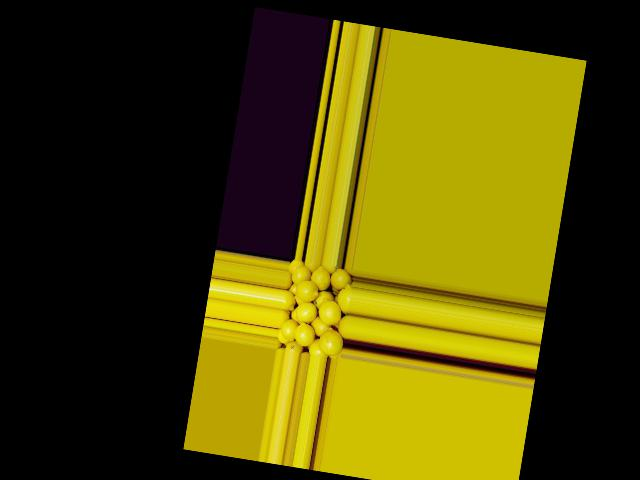lemon: (336, 280, 354, 313)
